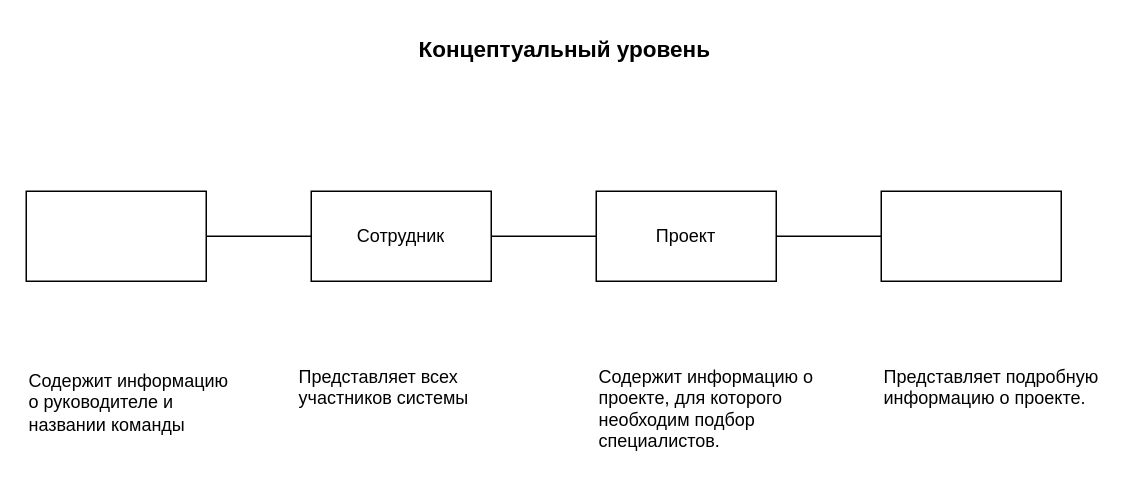
The diagram is 1133 pixels wide and 486 high, and some of its shapes have lost their labels. Each missing label, with the box of its shape:
Карточка проекта: (880, 190, 1061, 281)
Команда: (25, 190, 206, 281)
